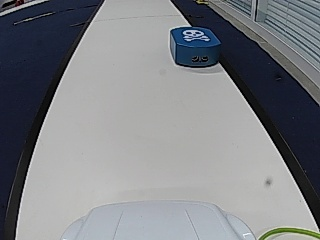danger: (182, 28, 209, 42)
